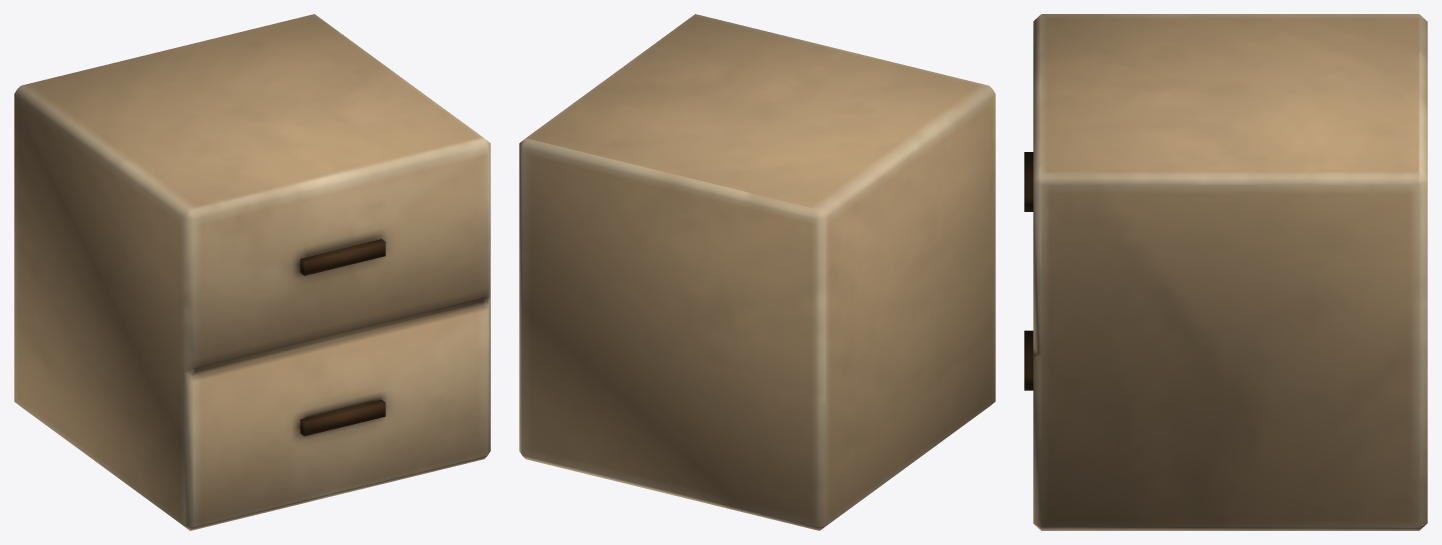
Rendered from Kitchen Cabinet1_3.fbx.
3 renders of one model, left to right at view 1: azimuth 30°, elevation 25°; view 2: azimuth 150°, elevation 25°; view 3: azimuth 270°, elevation 25°, orthographic. The views are drawn at different scales.
Visible parts, largest first — view 1: Kitchen Cabinet1_3; view 2: Kitchen Cabinet1_3; view 3: Kitchen Cabinet1_3.
Boxes of the visible parts, bbox=[...] form: Kitchen Cabinet1_3: bbox=[14, 14, 490, 530]; Kitchen Cabinet1_3: bbox=[519, 14, 995, 530]; Kitchen Cabinet1_3: bbox=[1024, 14, 1427, 530].
Size of the model in its own units: 1 by 1 by 1.02.
Materials: 1 (1 with a texture image).
